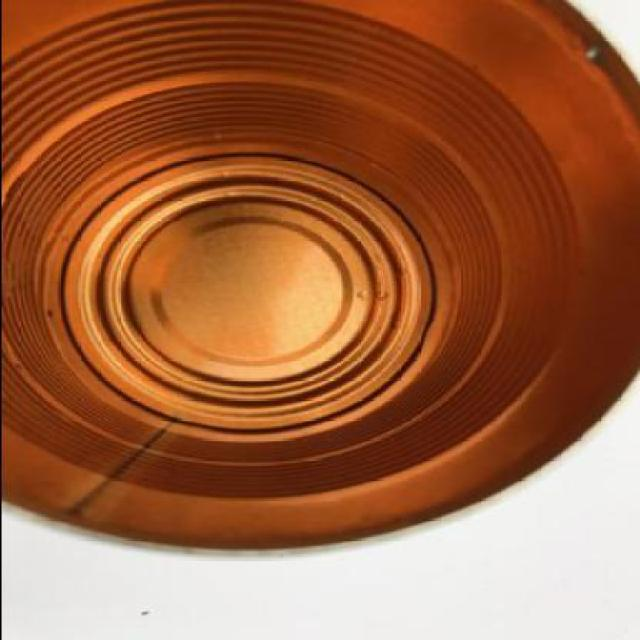METAL: (1, 1, 638, 554)
